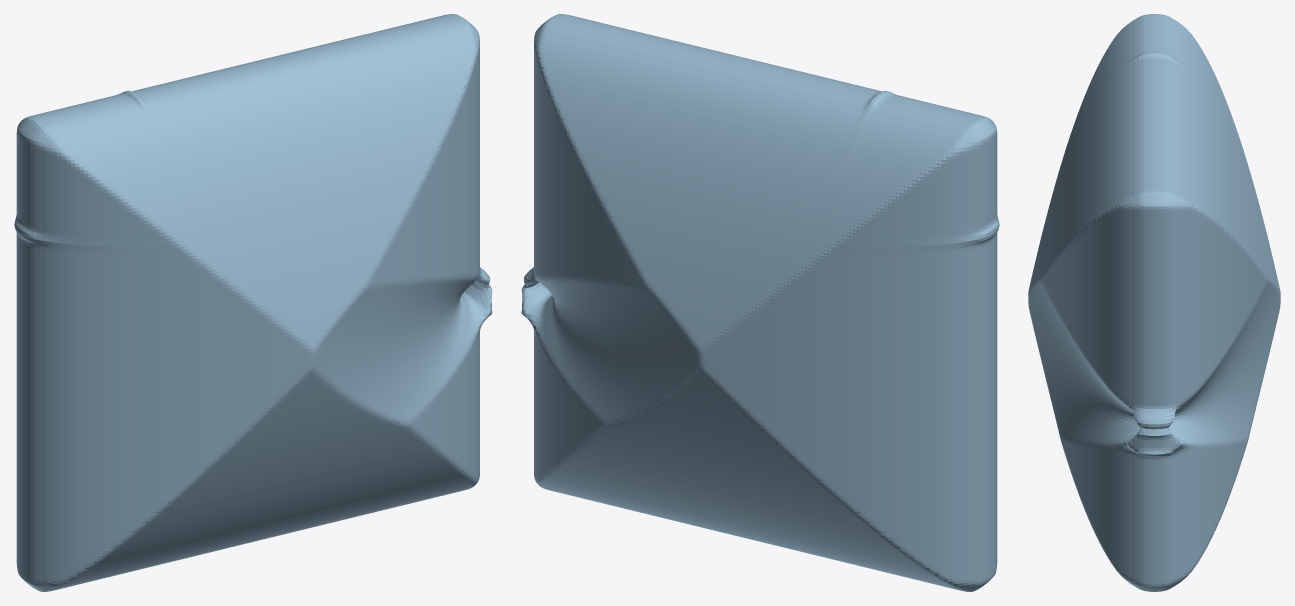
3 renders of one model, left to right at view 1: azimuth 30°, elevation 25°; view 2: azimuth 150°, elevation 25°; view 3: azimuth 270°, elevation 25°, orthographic. The views are drawn at different scales.
Parts seen in each view (by area): view 1: world; view 2: world; view 3: world.
Boxes of the visible parts, bbox=[...] form: world: bbox=[14, 14, 492, 591]; world: bbox=[521, 14, 999, 591]; world: bbox=[1028, 14, 1280, 591].
Bounding box in the file's own units: 2 × 1.93 × 1.1.
